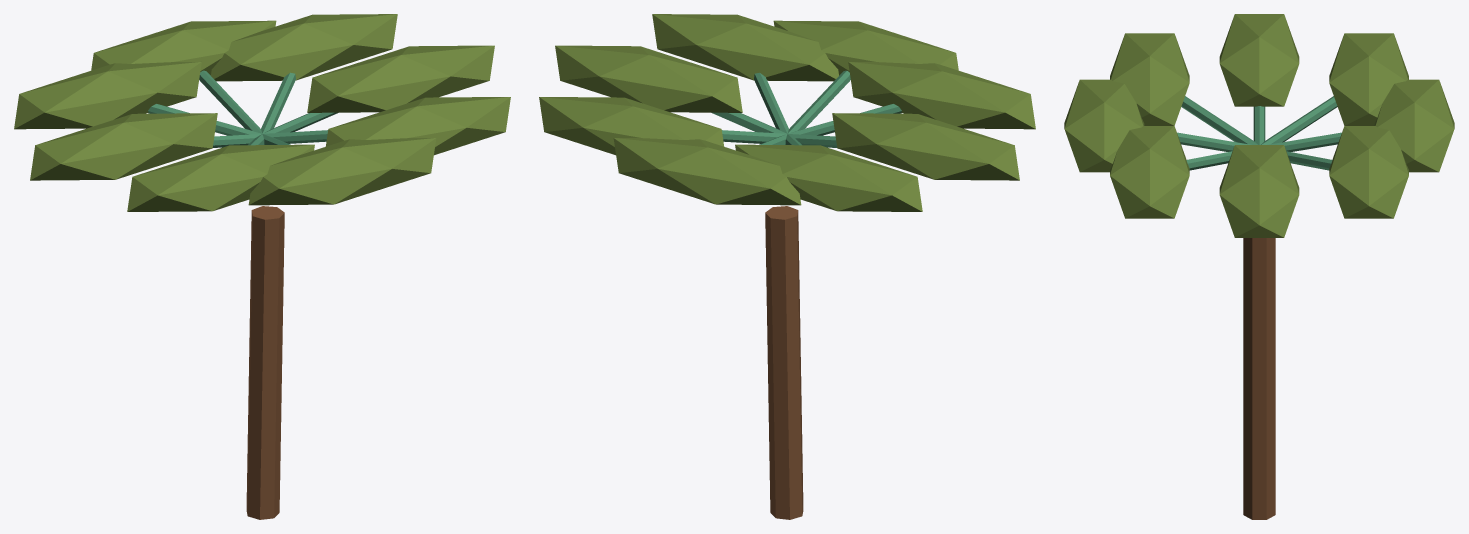
Rendered from tree_17.glb.
3 views of the same model, side by side, from view 1: azimuth 30°, elevation 25°; view 2: azimuth 150°, elevation 25°; view 3: azimuth 270°, elevation 25° (orthographic). The views are drawn at different scales.
Parts seen in each view (by area): view 1: tree_17; view 2: tree_17; view 3: tree_17.
Boxes of the visible parts, box(x1,y1,x2,y2) form: tree_17: box(14, 14, 510, 519); tree_17: box(539, 14, 1035, 519); tree_17: box(1064, 14, 1454, 519).
Bounding box in the file's own units: 7.2 × 6.28 × 5.4.
